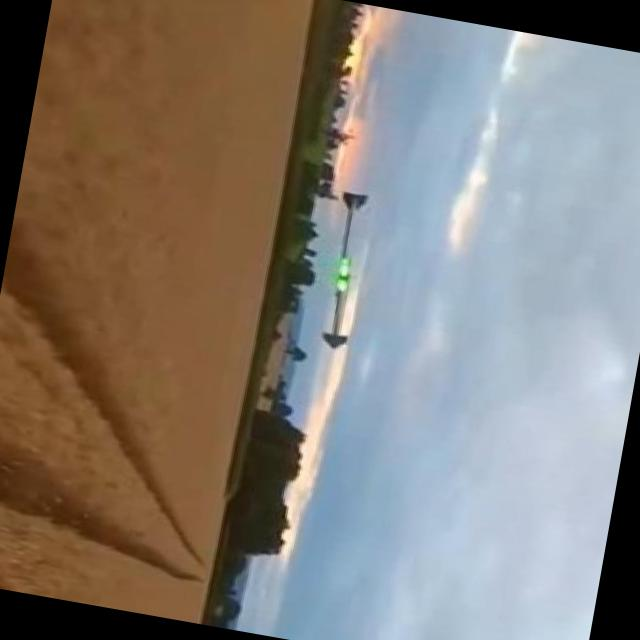UAV: (273, 170, 388, 400)
